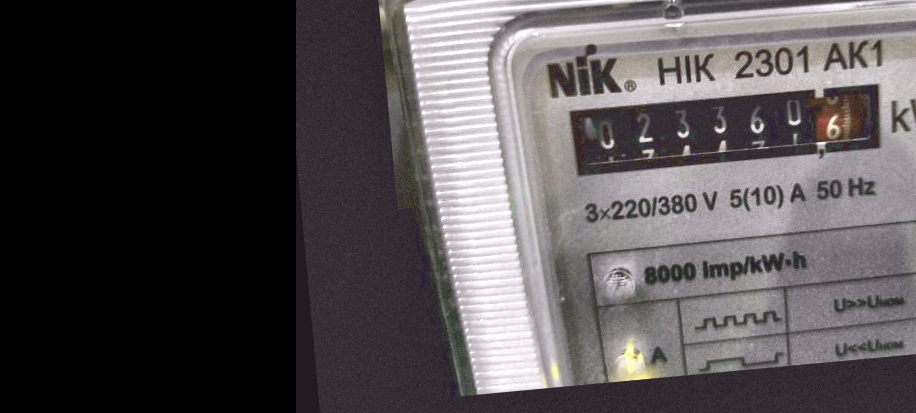0: (594, 115, 618, 150), (784, 94, 804, 127)
2: (632, 109, 658, 145)
3: (669, 105, 693, 139), (708, 101, 730, 134)
6: (744, 101, 767, 134), (820, 109, 844, 139)
screen: (550, 63, 899, 192)
